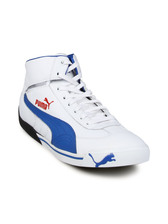shoes: (12, 46, 156, 171)
